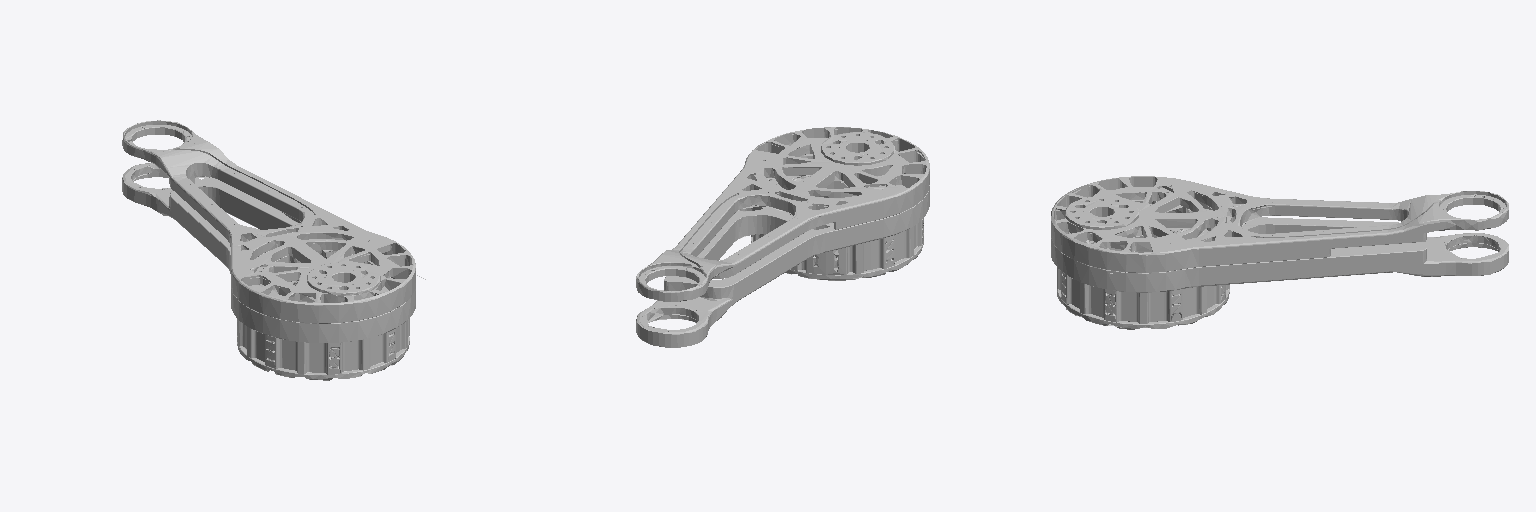
The model's file is left_thigh_pitch_link.obj.
3 renders of one model, left to right at view 1: azimuth 30°, elevation 25°; view 2: azimuth 150°, elevation 25°; view 3: azimuth 270°, elevation 25°, orthographic.
Visible parts, largest first — view 1: left_thigh_pitch_link; view 2: left_thigh_pitch_link; view 3: left_thigh_pitch_link.
Part boxes in pixels (x1,y1,x2,y2): left_thigh_pitch_link: (122, 120, 425, 380); left_thigh_pitch_link: (636, 127, 929, 347); left_thigh_pitch_link: (1051, 176, 1508, 329).
Size of the model in its own units: 0.1821 by 0.1082 by 0.445.